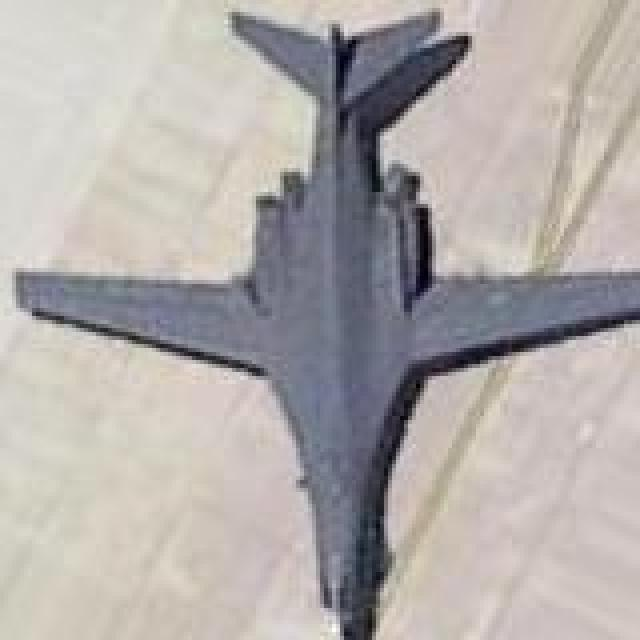B-1_TopDown: (8, 4, 636, 636)
